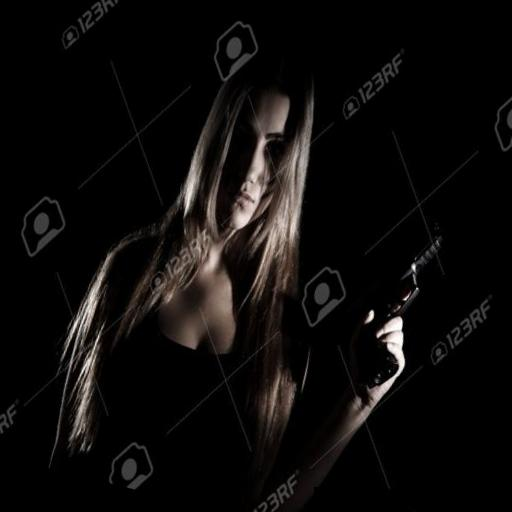Handgun: (324, 200, 448, 397)
